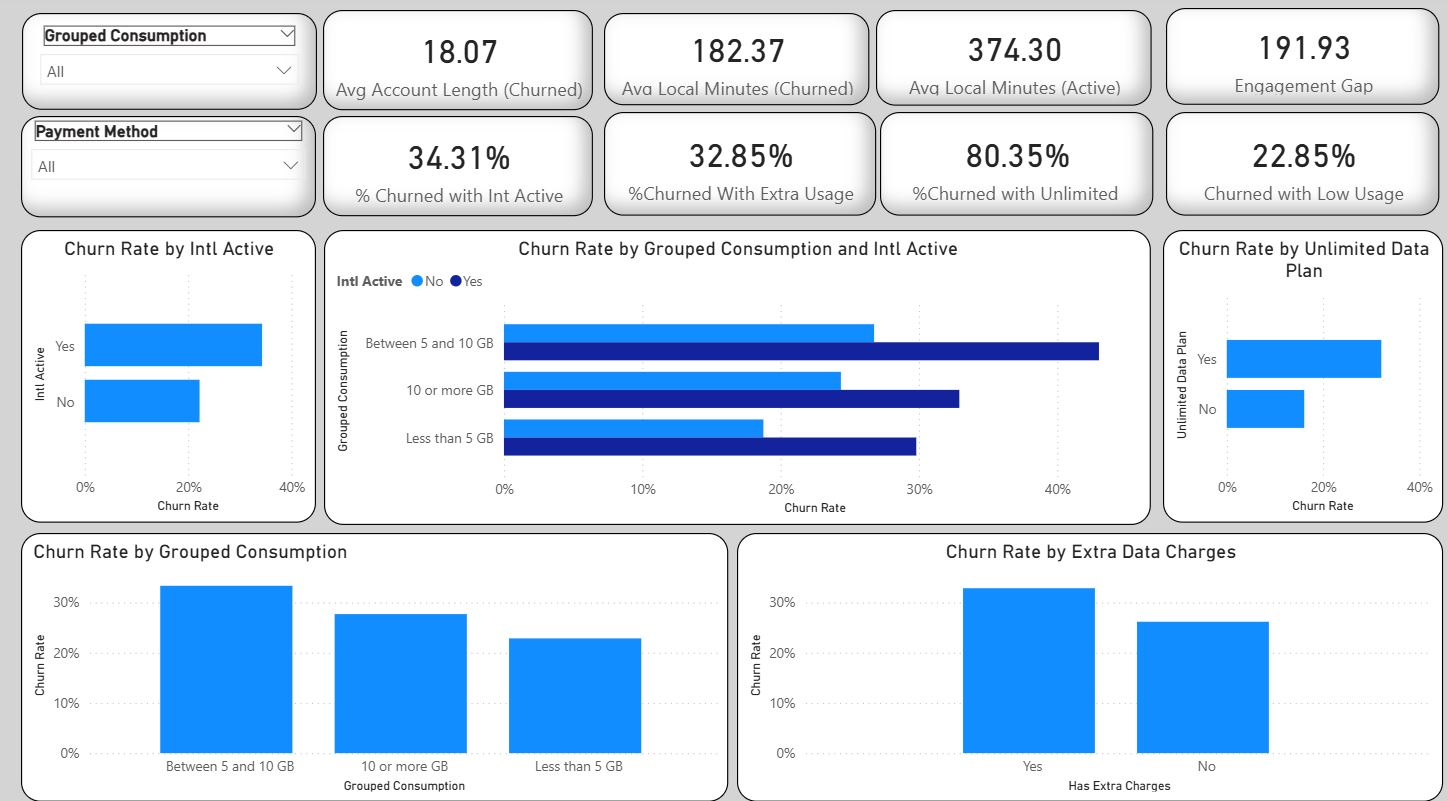

Layout of this report page (visuals, bound fields, positions):
{"tool":"powerbi","page":{"name":"product&Usage Behavior ","canvas":[1280,720],"ordinal":3},"visuals":[{"type":"slicer","fields":{"Values":["Databel - Data.Grouped Consumption"]},"box":[19.8,15.2,258.7,85.2],"z":0},{"type":"card","fields":{"Values":["measure table.Avg Local Minutes (Churned)"]},"box":[531.2,15.2,232.9,80.7],"z":1000},{"type":"clusteredColumnChart","fields":{"Category":["Databel - Data.Grouped Consumption"],"Y":["measure table.Churn Rate"]},"box":[19.5,471.2,621.3,236.3],"z":2000},{"type":"card","fields":{"Values":["measure table.Avg Local Minutes (Active)"]},"box":[770.1,12.2,242,83.7],"z":3000},{"type":"card","fields":{"Values":["measure table.Churned with Unlimited %"]},"box":[773.2,102,240.5,91.3],"z":4000},{"type":"card","fields":{"Values":["measure table.Churn Rate (Extra Usage)"]},"box":[531.2,102,239,91.3],"z":5000},{"type":"clusteredBarChart","title":"Churn Rate by Unlimited Data Plan","fields":{"Category":["Databel - Data.Unlimited Data Plan"],"Y":["measure table.Churn Rate"]},"box":[1021.6,205.7,246,257.1],"z":6000},{"type":"clusteredBarChart","fields":{"Category":["Databel - Data.Intl Active"],"Y":["measure table.Churn Rate"]},"box":[19.5,205.7,258.5,257.1],"z":7000},{"type":"clusteredColumnChart","title":"Churn Rate by Extra Data Charges","fields":{"Category":["Databel - Data.Has Extra Charges"],"Y":["measure table.Churn Rate"]},"box":[647.7,471.2,619.9,236.3],"z":8000},{"type":"clusteredBarChart","fields":{"Category":["Databel - Data.Grouped Consumption"],"Y":["measure table.Churn Rate"],"Series":["Databel - Data.Intl Active"]},"box":[284.9,205.7,725.6,258.5],"z":9000},{"type":"card","fields":{"Values":["measure table.% Churned with International Active"]},"box":[284.6,105,237.4,88.3],"z":10000},{"type":"card","fields":{"Values":["measure table.Engagement Gap"]},"box":[1024.3,10.7,240.5,85.2],"z":11000},{"type":"slicer","fields":{"Values":["Databel - Data.Payment Method"]},"box":[19.5,105.6,258.5,89],"z":12000},{"type":"card","fields":{"Values":["measure table.Avg Account Length (Churned)"]},"box":[284.6,12.2,237.4,88.3],"z":13000},{"type":"card","fields":{"Values":["measure table.Churned with Low Usage"]},"box":[1024.3,102,240.5,91.3],"z":14000}]}

Visuals, with their boxes in screenshot pixels (x1, y1, x2, y2), scaled from the page's 1280x720 canvas onto the 1448x801 screenshot:
slicer - Databel - Data.Grouped Consumption: select_region(22, 17, 315, 112)
card - measure table.Avg Local Minutes (Churned): select_region(601, 17, 864, 107)
clusteredColumnChart - Databel - Data.Grouped Consumption x measure table.Churn Rate: select_region(22, 524, 725, 787)
card - measure table.Avg Local Minutes (Active): select_region(871, 14, 1145, 107)
card - measure table.Churned with Unlimited %: select_region(875, 113, 1147, 215)
card - measure table.Churn Rate (Extra Usage): select_region(601, 113, 871, 215)
"Churn Rate by Unlimited Data Plan" clusteredBarChart: select_region(1156, 229, 1434, 515)
clusteredBarChart - Databel - Data.Intl Active x measure table.Churn Rate: select_region(22, 229, 314, 515)
"Churn Rate by Extra Data Charges" clusteredColumnChart: select_region(733, 524, 1434, 787)
clusteredBarChart - Databel - Data.Grouped Consumption x measure table.Churn Rate: select_region(322, 229, 1143, 516)
card - measure table.% Churned with International Active: select_region(322, 117, 591, 215)
card - measure table.Engagement Gap: select_region(1159, 12, 1431, 107)
slicer - Databel - Data.Payment Method: select_region(22, 117, 314, 216)
card - measure table.Avg Account Length (Churned): select_region(322, 14, 591, 112)
card - measure table.Churned with Low Usage: select_region(1159, 113, 1431, 215)
